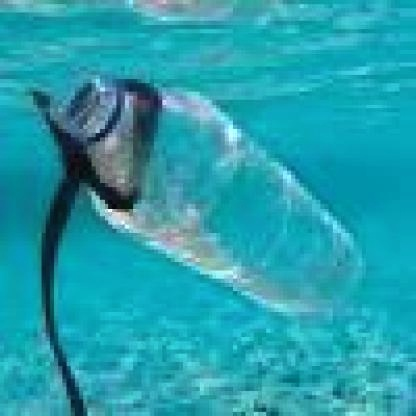pbottle: (46, 62, 370, 320)
